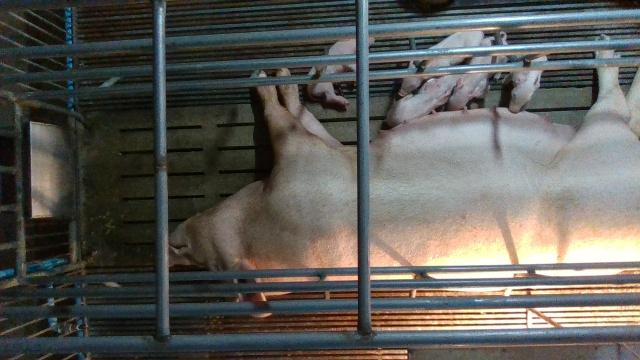piglet: (397, 31, 484, 97), (306, 38, 376, 111), (447, 32, 508, 111), (386, 74, 462, 127), (509, 54, 548, 113)
sow-sleep-lactate: (168, 34, 640, 316)
